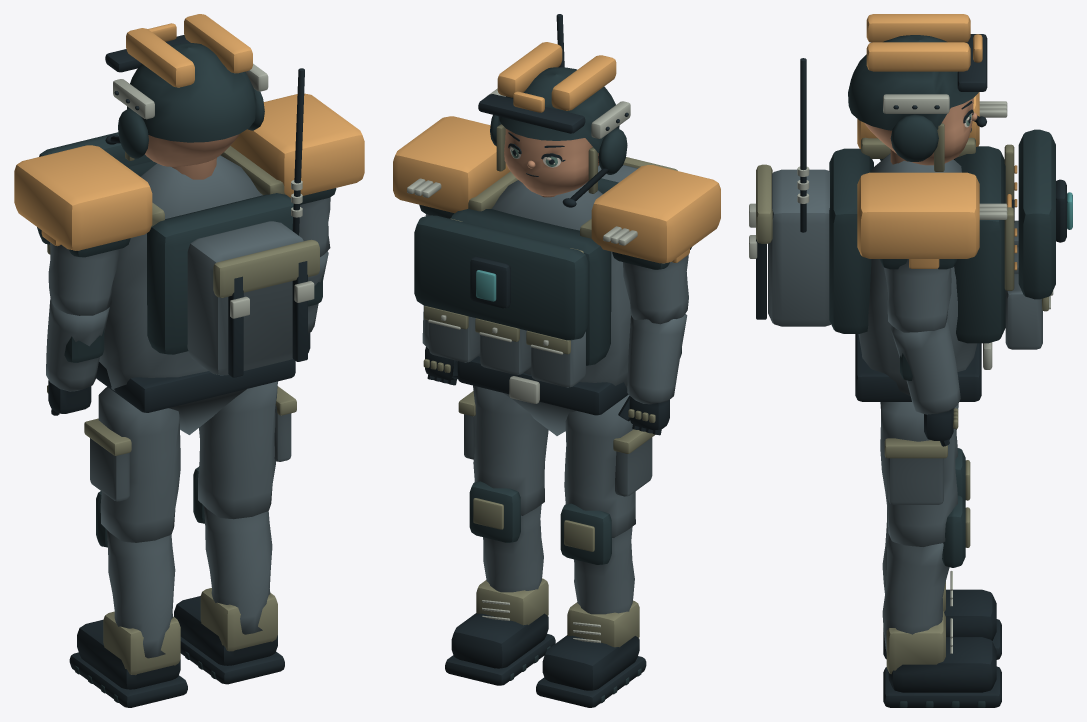
File: kf-varg.glb
3 views of the same model, side by side, from view 1: azimuth 30°, elevation 25°; view 2: azimuth 150°, elevation 25°; view 3: azimuth 270°, elevation 25° (orthographic). The views are drawn at different scales.
Visible parts, largest first — view 1: Torso Woven uniform, ArmorPlates Unit insignia, Leg_R Woven uniform, Leg_L Woven uniform, Head Ceramic armor, Torso Ceramic armor, Torso Rubber and hair, Knee_R Woven uniform, Knee_L Woven uniform, Torso Webbing, Head Unit insignia, Knee_R Rubber and hair (+14 smaller); view 2: ArmorPlates Unit insignia, ArmorPlates Ceramic armor, Torso Woven uniform, Leg_R Woven uniform, Leg_L Woven uniform, Knee_R Rubber and hair, Knee_L Rubber and hair, Torso Ceramic armor, Head Unit insignia, Head Ceramic armor, Elbow_R Woven uniform, Head Skin (+19 smaller); view 3: Torso Woven uniform, Torso Ceramic armor, ArmorPlates Unit insignia, Leg_L Woven uniform, Head Ceramic armor, Knee_L Rubber and hair, ArmorPlates Ceramic armor, Head Unit insignia, Knee_L Woven uniform, Torso Rubber and hair, Elbow_L Woven uniform, Arm_L Woven uniform (+12 smaller).
Boxes of the visible parts, left/top/right/bottom form: Torso Woven uniform: left=99, top=155, right=303, bottom=434; ArmorPlates Unit insignia: left=14, top=93, right=364, bottom=250; Leg_R Woven uniform: left=90, top=387, right=180, bottom=542; Leg_L Woven uniform: left=198, top=381, right=291, bottom=519; Head Ceramic armor: left=118, top=43, right=264, bottom=158; Torso Ceramic armor: left=127, top=160, right=293, bottom=354; Torso Rubber and hair: left=96, top=68, right=307, bottom=412; Knee_R Woven uniform: left=107, top=530, right=175, bottom=658; Knee_L Woven uniform: left=204, top=506, right=272, bottom=634; Torso Webbing: left=47, top=146, right=319, bottom=297; Head Unit insignia: left=126, top=14, right=252, bottom=87; Knee_R Rubber and hair: left=69, top=620, right=187, bottom=707; ArmorPlates Unit insignia: left=393, top=116, right=720, bottom=263; ArmorPlates Ceramic armor: left=414, top=215, right=588, bottom=340; Torso Woven uniform: left=429, top=165, right=637, bottom=435; Leg_R Woven uniform: left=564, top=394, right=652, bottom=537; Leg_L Woven uniform: left=464, top=385, right=548, bottom=515; Knee_R Rubber and hair: left=536, top=635, right=646, bottom=707; Knee_L Rubber and hair: left=445, top=613, right=555, bottom=685; Torso Ceramic armor: left=451, top=178, right=618, bottom=365; Head Unit insignia: left=497, top=42, right=616, bottom=112; Head Ceramic armor: left=490, top=67, right=627, bottom=174; Elbow_R Woven uniform: left=627, top=314, right=687, bottom=404; Head Skin: left=504, top=128, right=599, bottom=196; Torso Woven uniform: left=768, top=153, right=1042, bottom=396; Torso Ceramic armor: left=829, top=146, right=1005, bottom=343; ArmorPlates Unit insignia: left=857, top=92, right=979, bottom=258; Leg_L Woven uniform: left=880, top=402, right=958, bottom=546; Head Ceramic armor: left=848, top=35, right=978, bottom=161; Knee_L Rubber and hair: left=883, top=637, right=1001, bottom=707; ArmorPlates Ceramic armor: left=1018, top=129, right=1055, bottom=299; Head Unit insignia: left=866, top=14, right=982, bottom=71; Knee_L Woven uniform: left=882, top=536, right=949, bottom=651; Torso Rubber and hair: left=756, top=58, right=1014, bottom=401; Elbow_L Woven uniform: left=890, top=319, right=960, bottom=414; Arm_L Woven uniform: left=884, top=259, right=951, bottom=332.
Size of the model in its own units: 0.93 by 1.9 by 0.8715.
